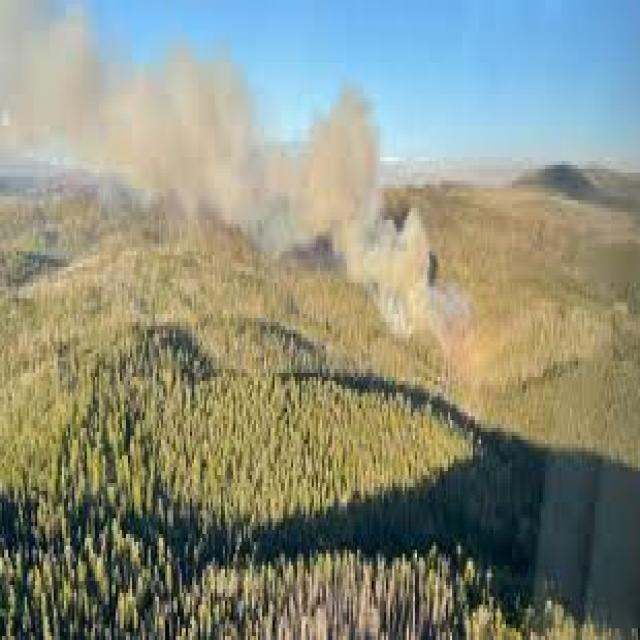Smoke: (0, 0, 258, 230), (152, 78, 392, 262), (286, 88, 446, 342)
